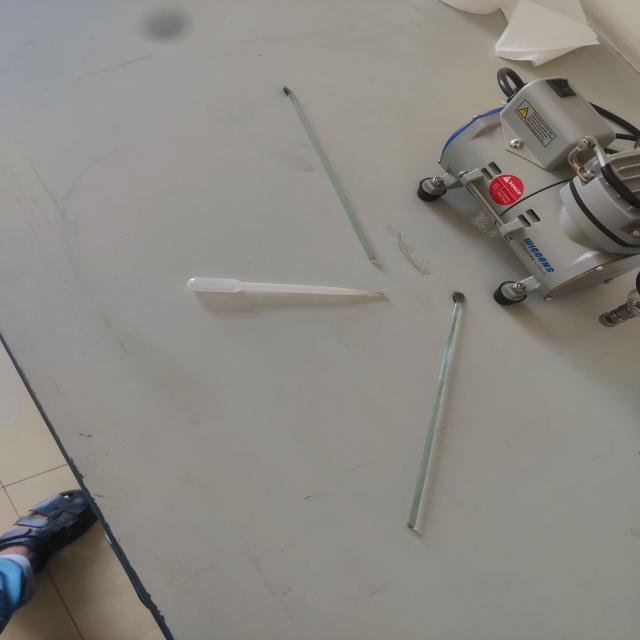Glass_Rod: (376, 280, 495, 558), (265, 68, 400, 278)
Pipette: (156, 255, 418, 326)
